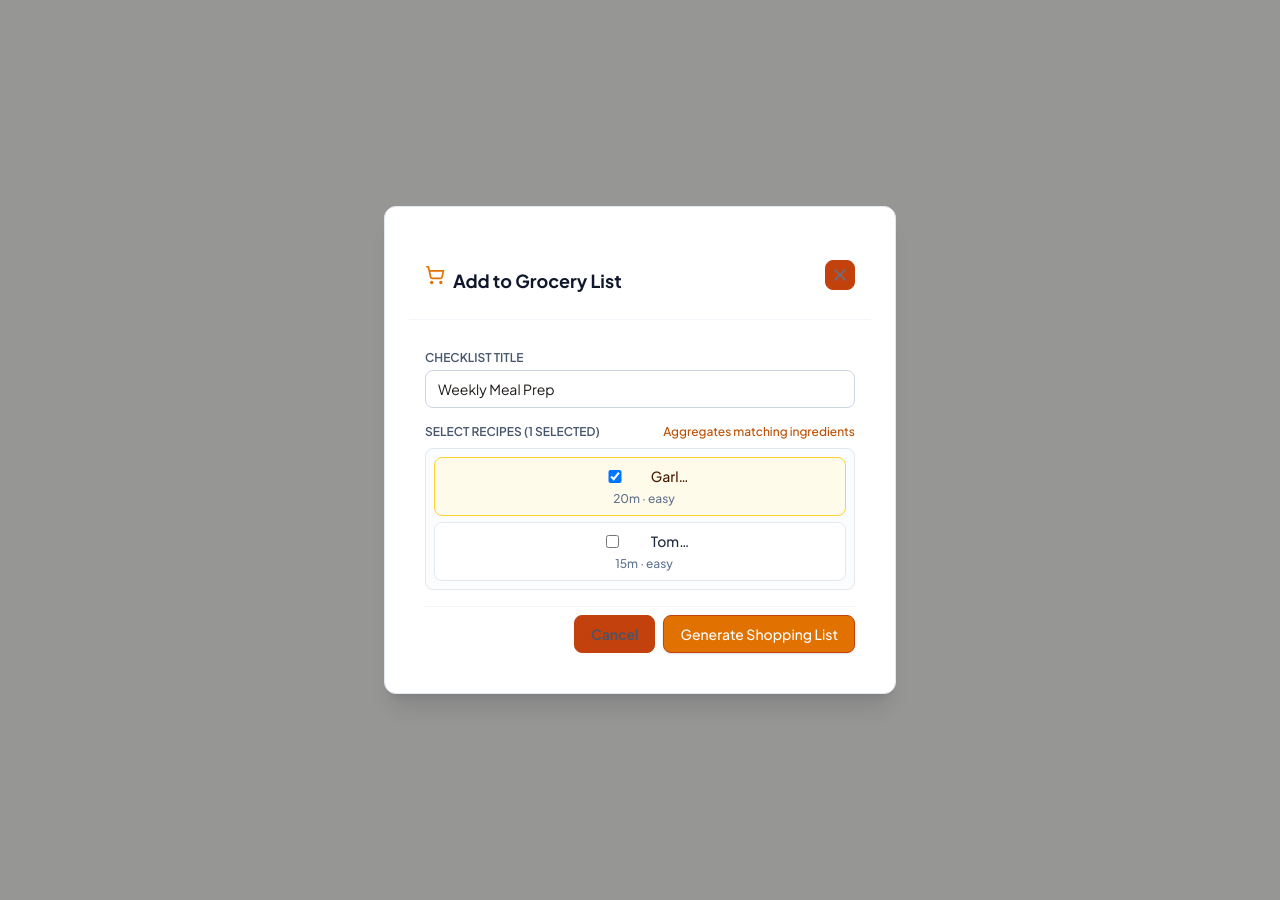
Test case: US4.2.4: AddToGroceryModal › Criterion 5: unauthenticated users are prompted to log in
Check: the text "Garlic Pasta" is shown, box [651, 466, 691, 486]
Click the button "Generate Shopping List" at {"x": 759, "y": 634}, box [663, 615, 855, 653]
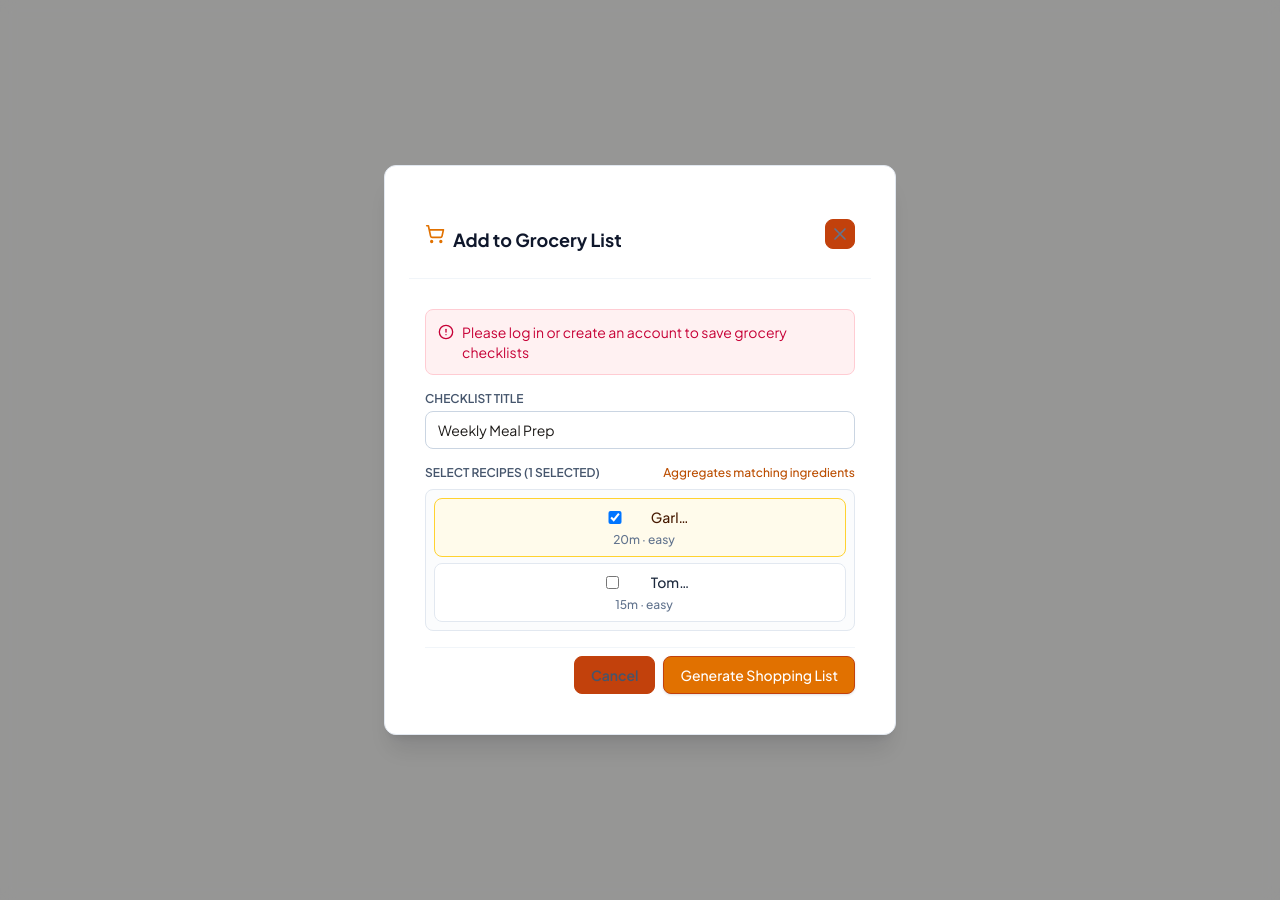
Check: the text "Please log in or create an account to save grocery checklists" is shown, box [462, 322, 842, 362]
